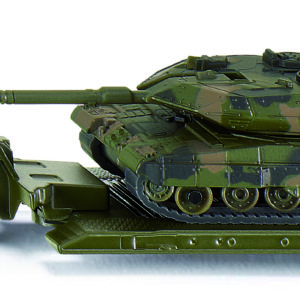Battle Tank: (70, 51, 300, 226)
